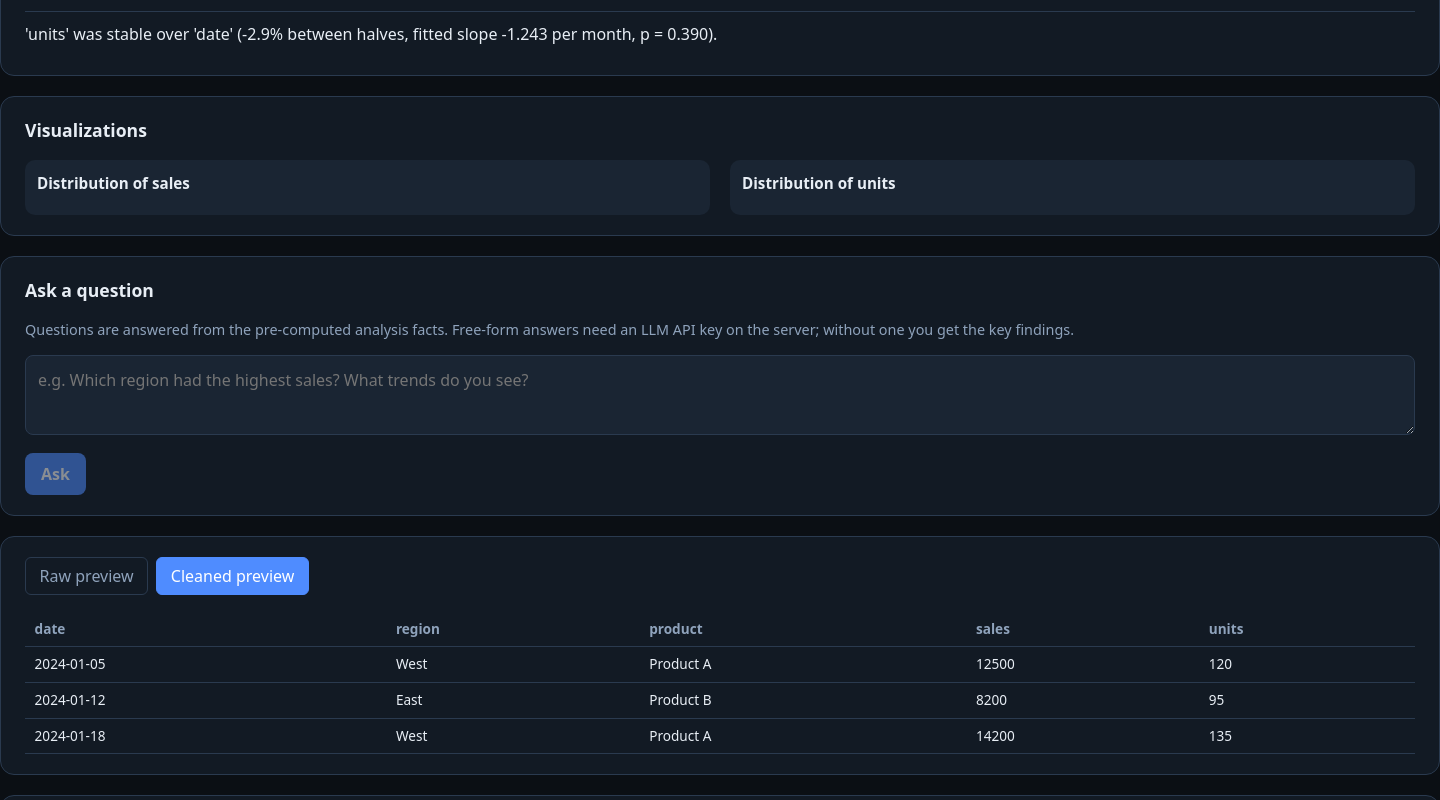
Test: AnalysisDashboard › shows the server's message when the session has expired
(page scrolled)
Type "Anything?" into the text box with placeholder "Which region".
click(720, 395); type("Anything?")  # box [25,355,1415,435]
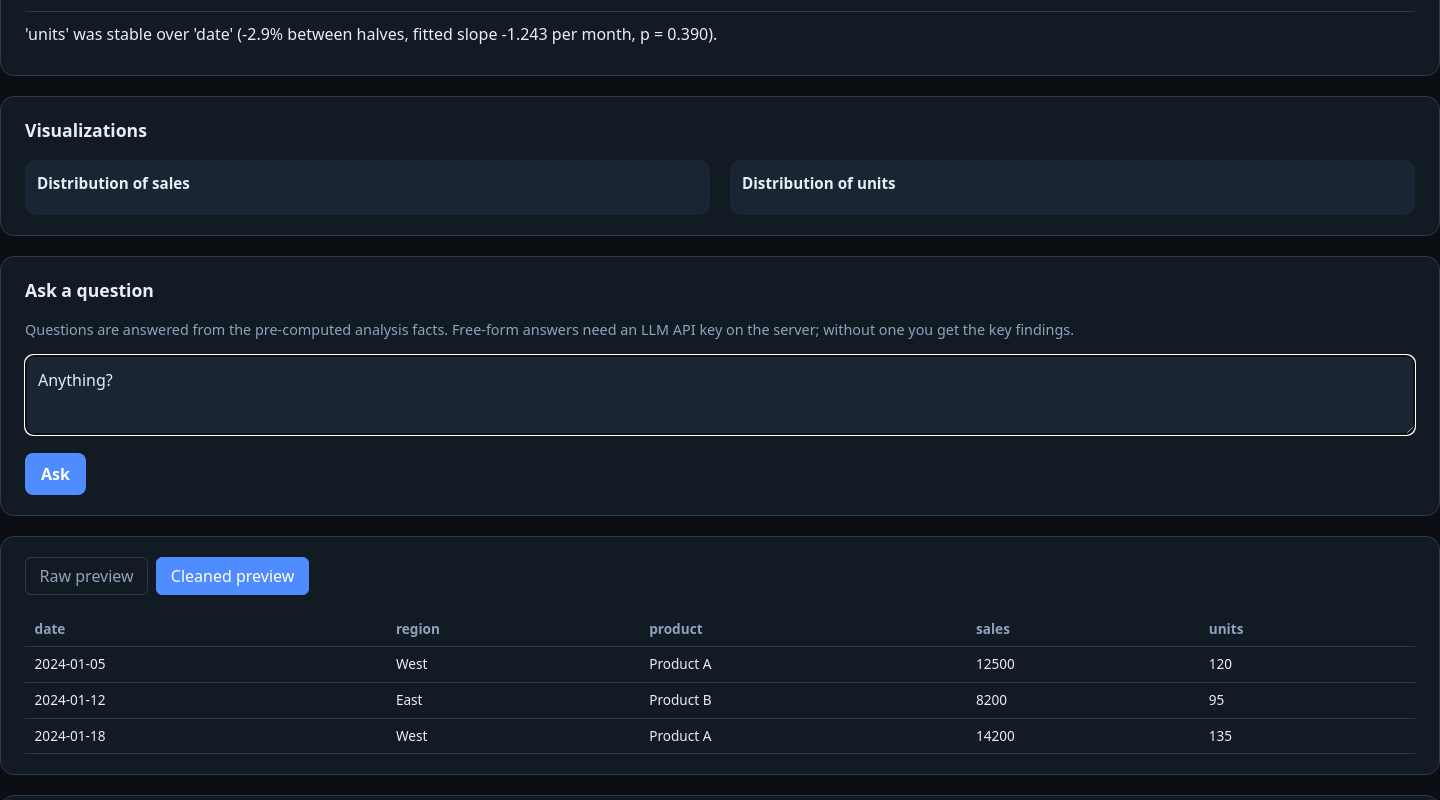
Click the button "Ask".
click(55, 474)  # box [25,453,86,495]
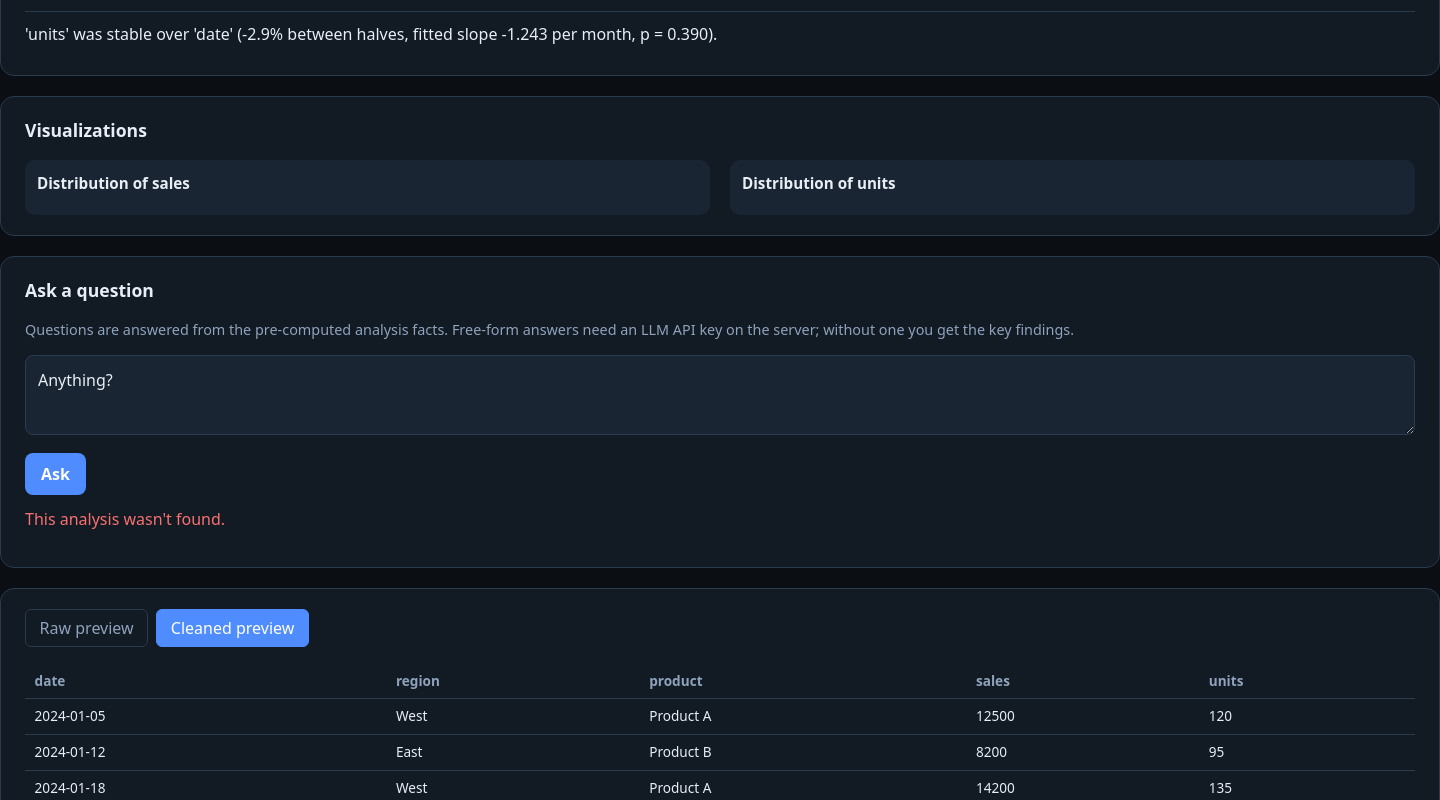
Now the text "This analysis wasn't found." is shown, box [25,508,225,530]
